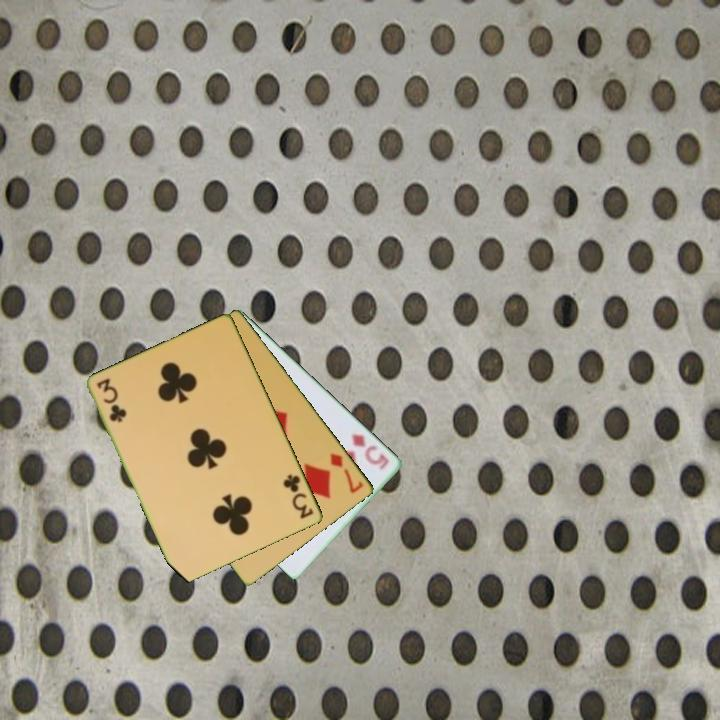3c: (280, 471, 317, 522), (93, 375, 128, 425)
5d: (348, 430, 392, 473)
7d: (327, 449, 367, 496)
